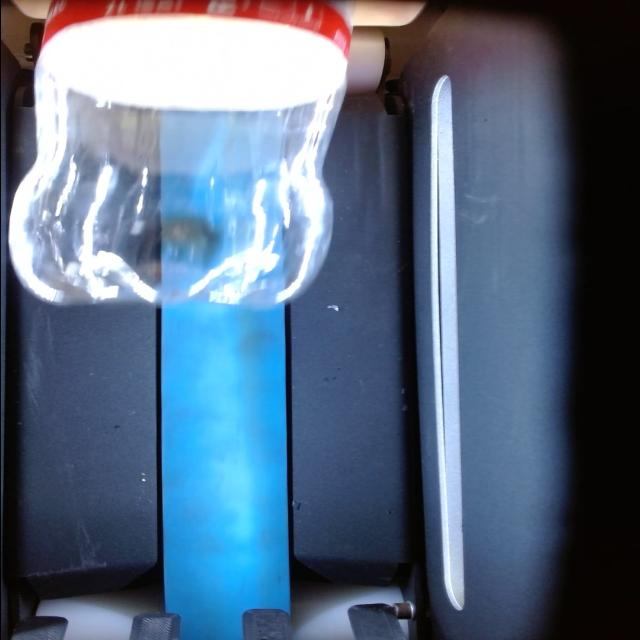bottom: (9, 73, 340, 307)
label: (38, 0, 349, 111)
